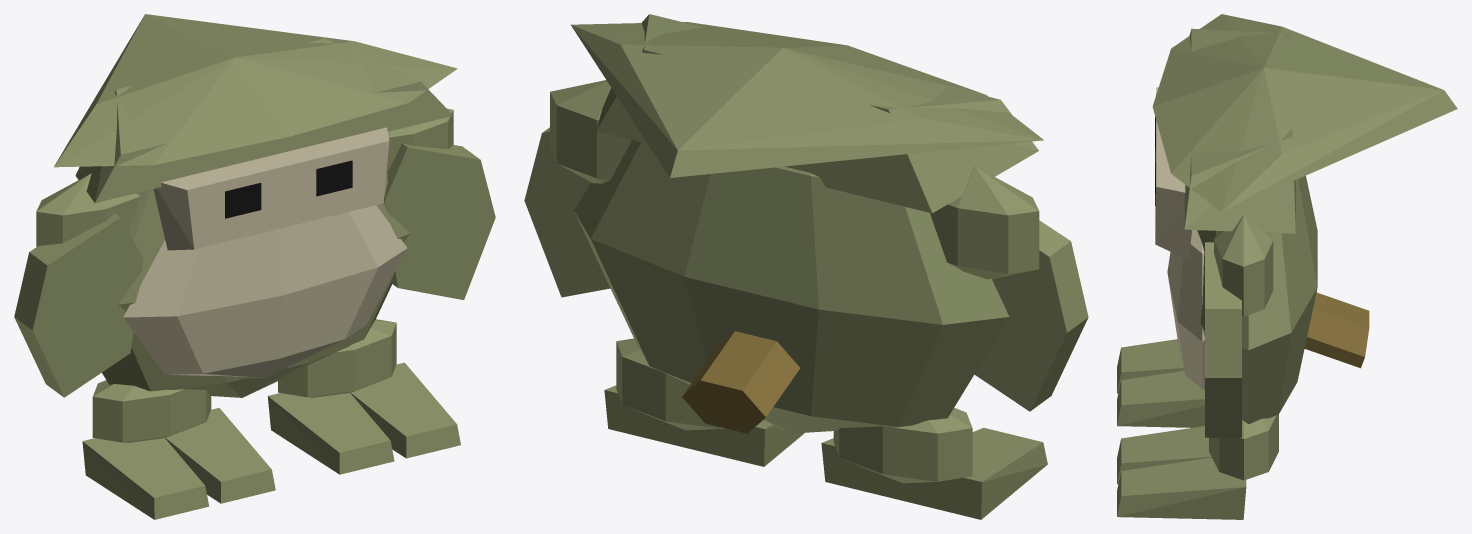
File: mosskip.glb
3 renders of one model, left to right at view 1: azimuth 30°, elevation 25°; view 2: azimuth 150°, elevation 25°; view 3: azimuth 270°, elevation 25°, orthographic. The views are drawn at different scales.
Parts seen in each view (by area): view 1: Mosskip; view 2: Mosskip; view 3: Mosskip.
Boxes of the visible parts, bbox=[...] form: Mosskip: bbox=[14, 14, 495, 519]; Mosskip: bbox=[524, 14, 1088, 519]; Mosskip: bbox=[1117, 14, 1457, 519].
Bounding box in the file's own units: 0.6 × 0.46 × 0.38.
